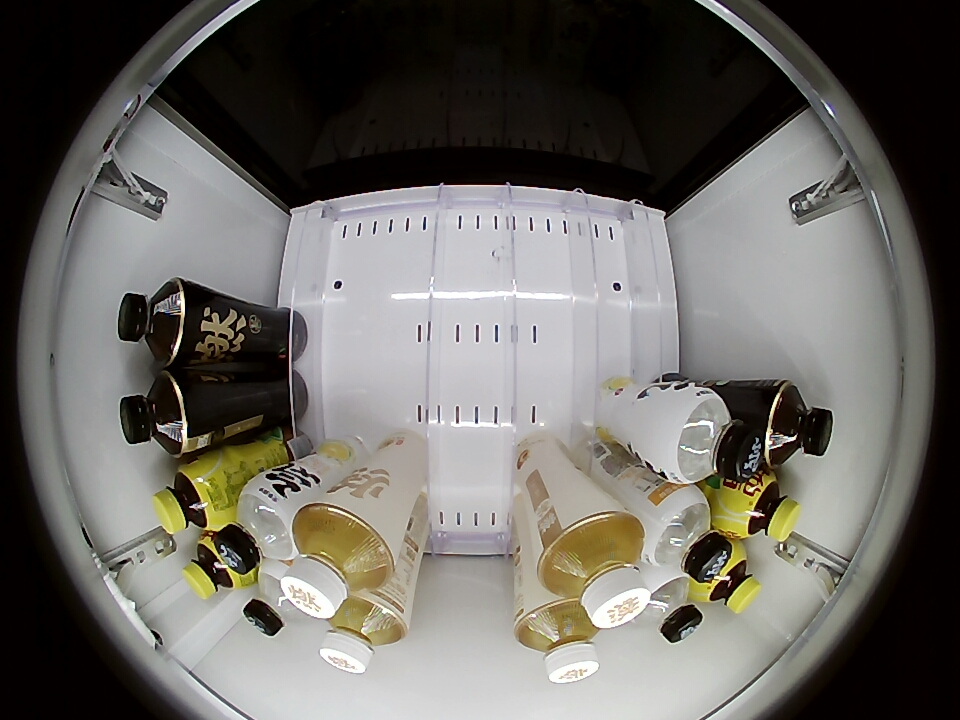rancha-1: (117, 278, 190, 366), (761, 382, 834, 467), (119, 370, 188, 456)
rancha-2: (533, 509, 650, 630), (281, 501, 396, 620), (515, 599, 601, 684), (321, 593, 407, 675)
weitaningmeng-bottle: (152, 458, 228, 535), (723, 471, 802, 543), (183, 533, 249, 600), (697, 547, 762, 614)
yuanqishui: (650, 384, 764, 484), (637, 484, 732, 582), (214, 478, 305, 573), (629, 569, 703, 643), (244, 560, 306, 636)
